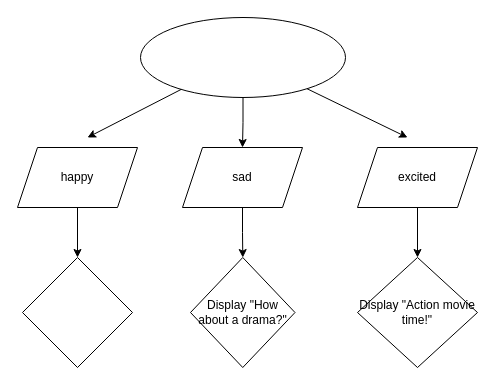
The diagram is 495 pixels wide and 385 high, and some of its shapes have lost their labels. Here are the shapes that lost their labels. From the top down, the centre of each, then its label:
point 243,57: Input: Mood
point 77,312: Display "Watch a comedy!"
